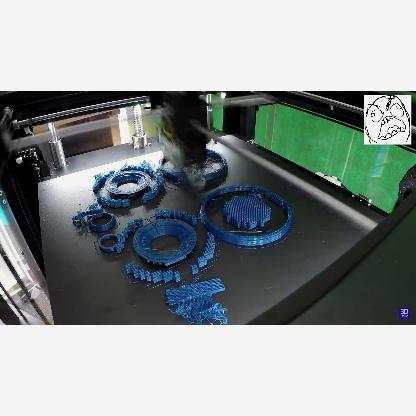fail: (172, 290, 228, 324)
